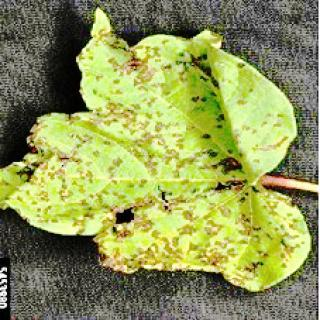blight: (10, 46, 296, 270)
